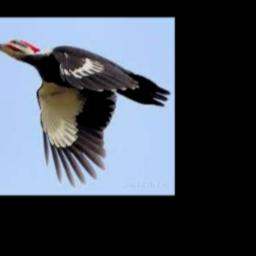Woodpecker: (0, 39, 171, 188)
